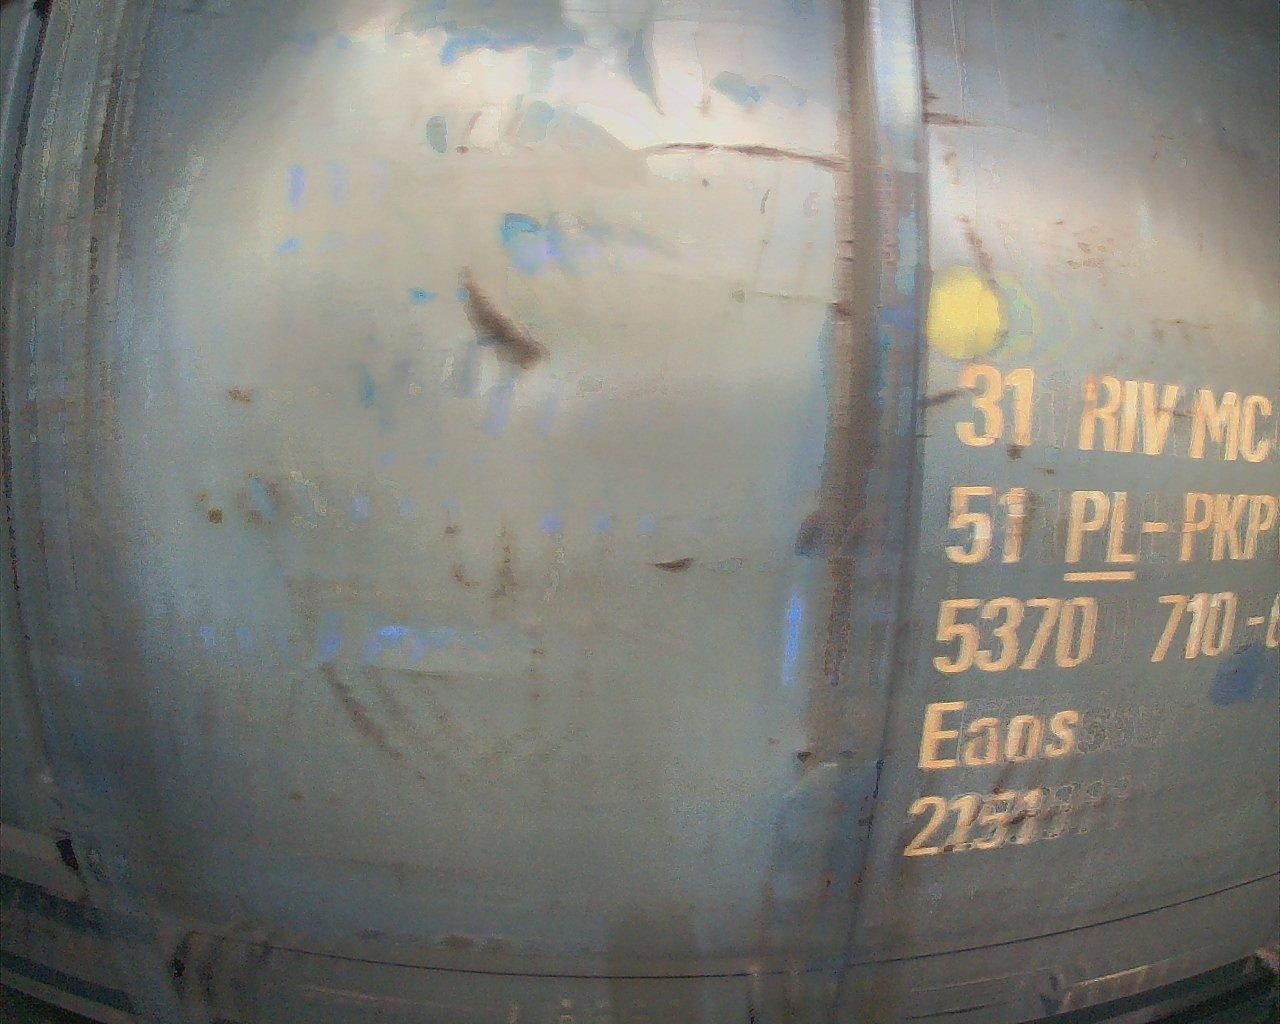UIC: (893, 360, 1280, 865)
